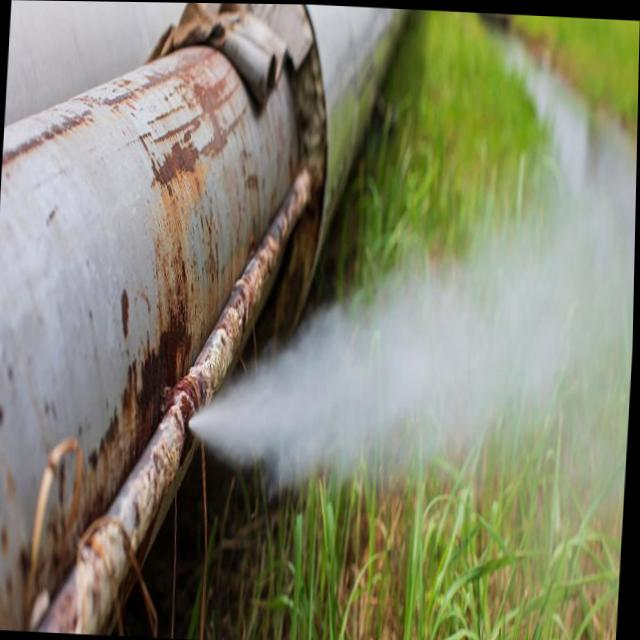leak: (200, 145, 636, 543)
